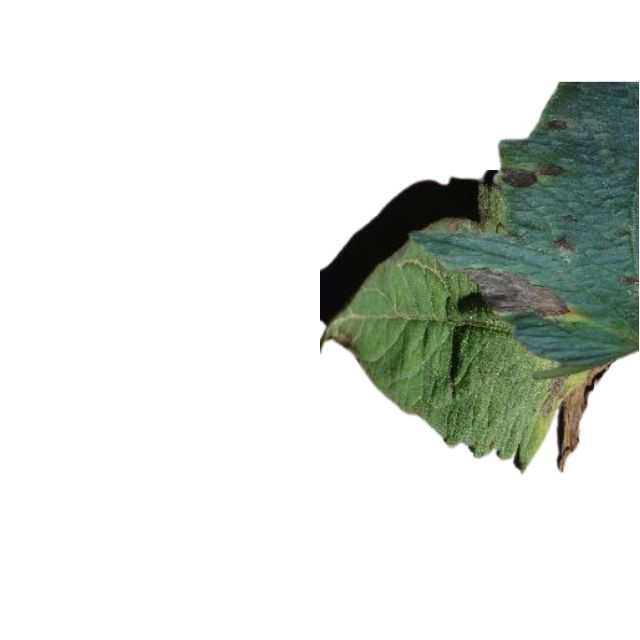Early_blight: (544, 358, 611, 471), (463, 264, 572, 320), (499, 164, 567, 188), (555, 234, 575, 254)
